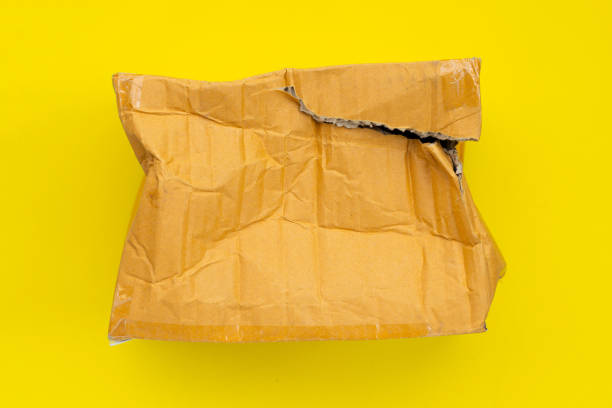damaged package: (279, 88, 485, 188)
